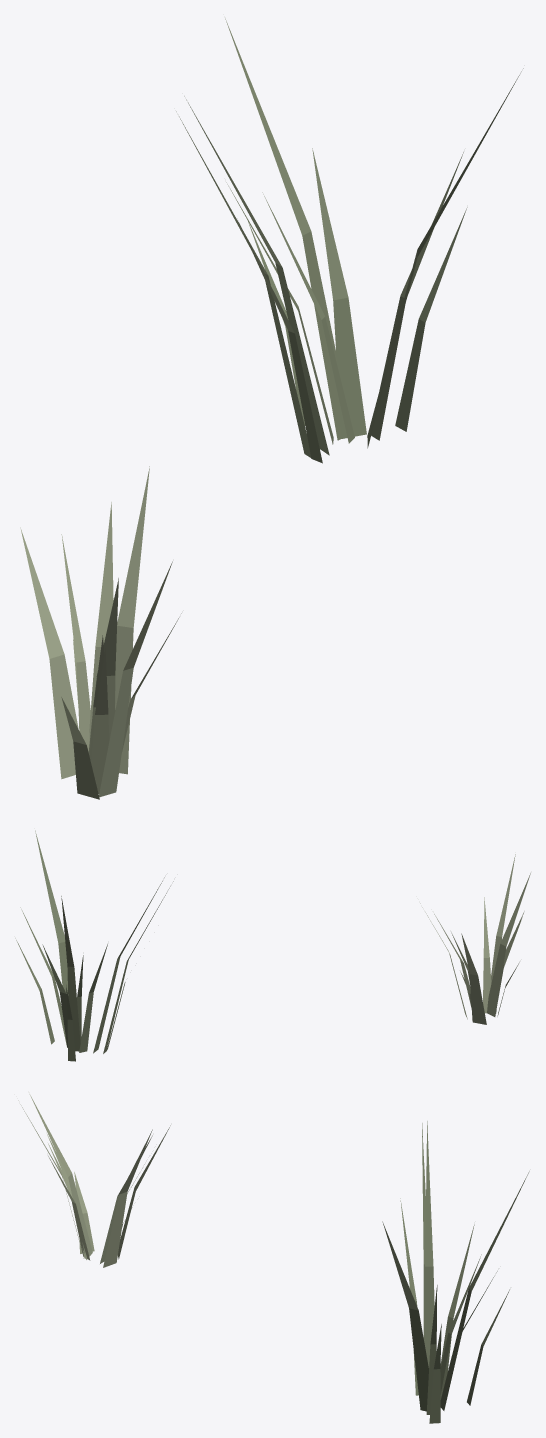
The model's file is AE_Grass_-3_3.fbx.
The picture shows the model from 3 angles, top to bottom: view 1: azimuth 30°, elevation 25°; view 2: azimuth 150°, elevation 25°; view 3: azimuth 270°, elevation 25°; orthographic projection. The views are drawn at different scales.
Parts seen in each view (by area): view 1: AE_Grass_-3_3_LOD0; view 2: AE_Grass_-3_3_LOD0; view 3: AE_Grass_-3_3_LOD0.
Part boxes in pixels (<box>): AE_Grass_-3_3_LOD0: <box>20,18,523,799</box>; AE_Grass_-3_3_LOD0: <box>15,830,530,1061</box>; AE_Grass_-3_3_LOD0: <box>18,1094,529,1423</box>.
Size of what is drawn, in the model's own units: 132 by 71.38 by 137.
